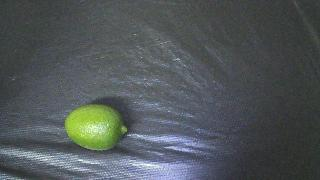LOCAL: (65, 104, 127, 150)
